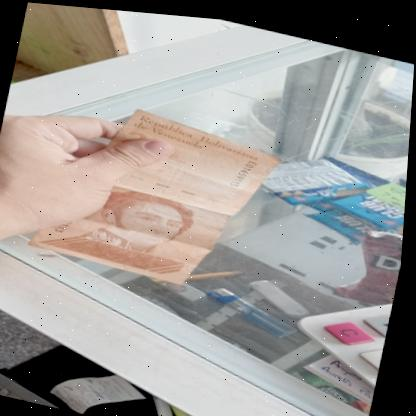twenty-front-vef: (28, 87, 287, 297)
